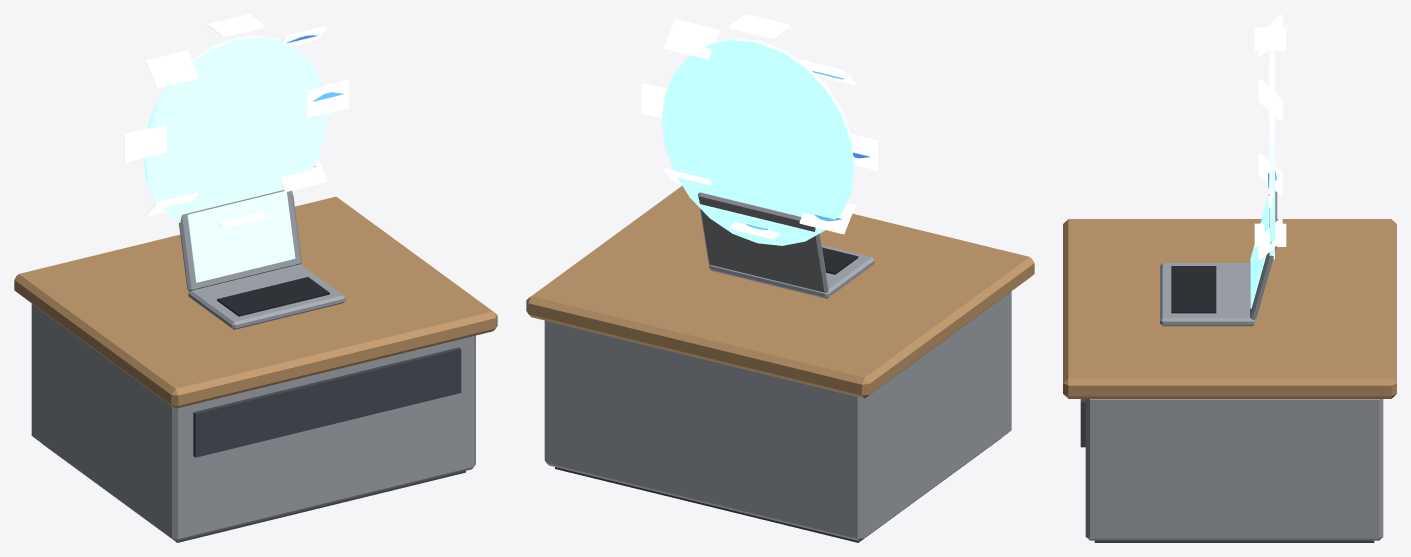
The model's file is replyall_p1_4.glb.
The picture shows the model from 3 angles, left to right: view 1: azimuth 30°, elevation 25°; view 2: azimuth 150°, elevation 25°; view 3: azimuth 270°, elevation 25°; orthographic projection. The views are drawn at different scales.
Parts seen in each view (by area): view 1: replyall_p1_4_mesh_Desk, replyall_p1_4_mesh; view 2: replyall_p1_4_mesh_Desk, replyall_p1_4_mesh; view 3: replyall_p1_4_mesh_Desk, replyall_p1_4_mesh.
Boxes of the visible parts, <box> form: replyall_p1_4_mesh_Desk: <box>14,196,497,542</box>; replyall_p1_4_mesh: <box>123,14,348,329</box>; replyall_p1_4_mesh_Desk: <box>526,185,1034,542</box>; replyall_p1_4_mesh: <box>641,14,878,298</box>; replyall_p1_4_mesh_Desk: <box>1063,219,1396,542</box>; replyall_p1_4_mesh: <box>1160,14,1286,326</box>.
Size of the model in its own units: 0.86 by 1.06 by 0.74.
